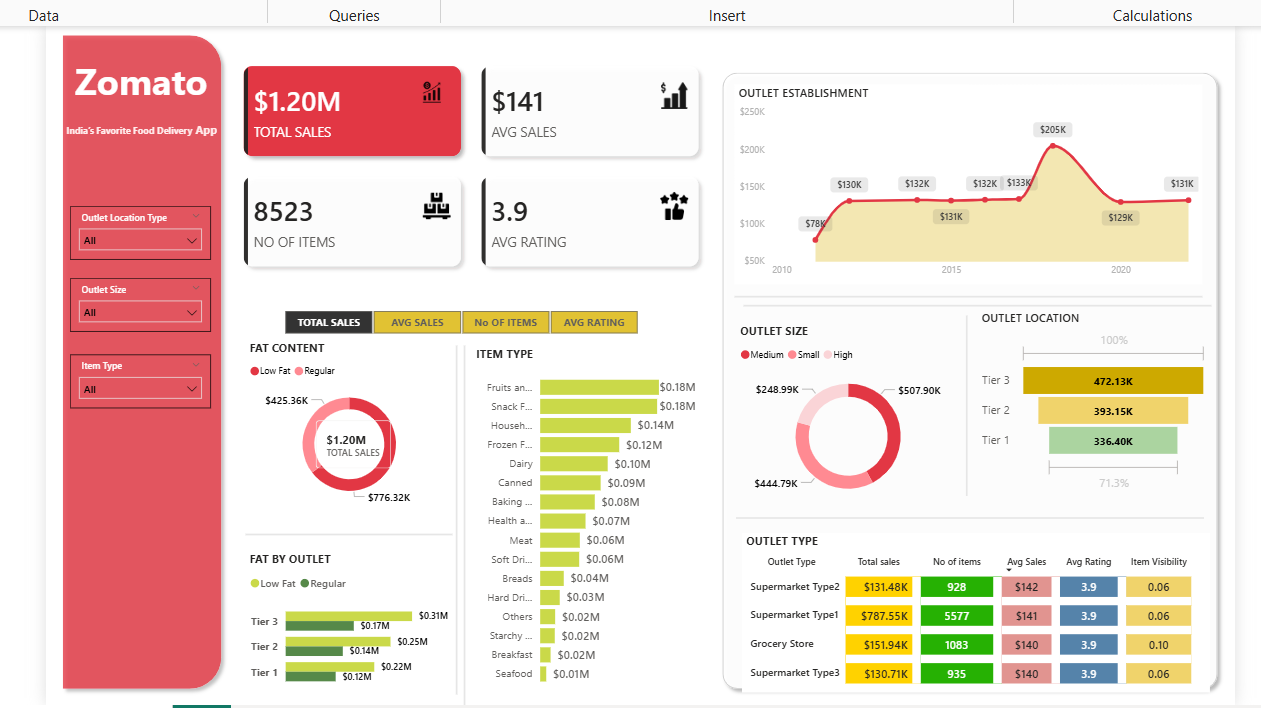

This screenshot's page, from the dashboard's own definition file:
{"tool":"powerbi","page":{"name":"Zomato_Dashboard","canvas":[1400,800],"ordinal":0},"visuals":[{"type":"shape","box":[10.6,1.8,205,788.2],"z":0},{"type":"textbox","box":[14.1,30,196.2,77.8],"z":1000},{"type":"textbox","box":[5.3,107.8,215.6,35.3],"z":2000},{"type":"cardVisual","fields":{"Data":["BlinkIT Grocery Data.TOTAL SALES","BlinkIT Grocery Data.AVG SALES","BlinkIT Grocery Data.No OF ITEMS","BlinkIT Grocery Data.AVG RATING"]},"box":[215.6,29.7,571.9,270.3],"z":3000},{"type":"slicer","fields":{"Values":["Metrics.Metrics"]},"box":[256.3,328.7,464.8,40.6],"z":4000},{"type":"donutChart","title":"FAT CONTENT","fields":{"Category":["Zomato Sales Data.Item Fat Content"],"Y":["Zomato Sales Data.TOTAL SALES"]},"box":[235.1,369.4,243.9,201.5],"z":5000},{"type":"cardVisual","fields":{"Data":["Zomato Sales Data.TOTAL SALES"]},"box":[300.4,447.1,123.7,91.9],"z":6000},{"type":"clusteredBarChart","title":"FAT BY OUTLET","fields":{"Category":["BlinkIT Grocery Data.Outlet Location Type"],"Series":["BlinkIT Grocery Data.Item Fat Content"],"Y":["Zomato Sales Data.TOTAL SALES"]},"box":[235.1,618.6,243.9,171.4],"z":7000},{"type":"shape","box":[235.1,579.7,243.9,38.9],"z":8000},{"type":"shape","box":[479,375.8,9.7,411.3],"z":9000},{"type":"barChart","title":"ITEM TYPE","fields":{"Category":["BlinkIT Grocery Data.Item Type"],"Y":["Zomato Sales Data.TOTAL SALES"]},"box":[502,376.5,268.6,409.8],"z":10000},{"type":"shape","box":[788.2,46,600.9,744.1],"z":11000},{"type":"lineChart","title":"OUTLET ESTABLISHMENT","fields":{"Category":["BlinkIT Grocery Data.Outlet Establishment Year"],"Y":["BlinkIT Grocery Data.TOTAL SALES"]},"box":[811.3,69.4,551.6,235.5],"z":12000},{"type":"shape","box":[811.3,309.7,551.6,19.4],"z":13000},{"type":"donutChart","title":"OUTLET SIZE","fields":{"Category":["BlinkIT Grocery Data.Outlet Size"],"Y":["BlinkIT Grocery Data.TOTAL SALES"]},"box":[813,350,263.6,221.5],"z":14000},{"type":"shape","box":[483.9,375.8,17.7,424.2],"z":15000},{"type":"shape","box":[821.3,319.7,551.6,19.4],"z":16000},{"type":"shape","box":[1072.6,340.3,24.2,212.9],"z":17000},{"type":"funnel","title":"OUTLET LOCATION","fields":{"Category":["BlinkIT Grocery Data.Outlet Location Type"],"Y":["Sum(BlinkIT Grocery Data.Sales)"]},"box":[1097.5,334,275.7,219.2],"z":17001},{"type":"shape","box":[813,570.9,551.4,17.7],"z":17002},{"type":"pivotTable","title":"OUTLET TYPE","fields":{"Rows":["BlinkIT Grocery Data.Outlet Type"],"Values":["BlinkIT Grocery Data.TOTAL SALES","BlinkIT Grocery Data.No OF ITEMS","BlinkIT Grocery Data.AVG SALES","BlinkIT Grocery Data.AVG RATING","Avg(BlinkIT Grocery Data.Item Visibility)"]},"box":[819.6,598.1,551.6,188.3],"z":17003},{"type":"slicer","fields":{"Values":["BlinkIT Grocery Data.Outlet Location Type"]},"box":[28.3,212.1,166.1,63.6],"z":17004},{"type":"slicer","fields":{"Values":["BlinkIT Grocery Data.Outlet Size"]},"box":[28.3,296.9,166.1,63.6],"z":17005},{"type":"slicer","fields":{"Values":["BlinkIT Grocery Data.Item Type"]},"box":[28.3,387,166.1,63.6],"z":17006}]}

Visuals, with their boxes on the page's 1400x800 design canvas (x1, y1, x2, y2). These are canvas units, not pixel positions in the 1261x708 screenshot, which may show the page scaled, cropped or inside an application window:
shape: 11:2:216:790
textbox: 14:30:210:108
textbox: 5:108:221:143
cardVisual - BlinkIT Grocery Data.TOTAL SALES x BlinkIT Grocery Data.AVG SALES: 216:30:788:300
slicer - Metrics.Metrics: 256:329:721:369
"FAT CONTENT" donutChart: 235:369:479:571
cardVisual - Zomato Sales Data.TOTAL SALES: 300:447:424:539
"FAT BY OUTLET" clusteredBarChart: 235:619:479:790
shape: 235:580:479:619
shape: 479:376:489:787
"ITEM TYPE" barChart: 502:376:771:786
shape: 788:46:1389:790
"OUTLET ESTABLISHMENT" lineChart: 811:69:1363:305
shape: 811:310:1363:329
"OUTLET SIZE" donutChart: 813:350:1077:572
shape: 484:376:502:800
shape: 821:320:1373:339
shape: 1073:340:1097:553
"OUTLET LOCATION" funnel: 1098:334:1373:553
shape: 813:571:1364:589
"OUTLET TYPE" pivotTable: 820:598:1371:786
slicer - BlinkIT Grocery Data.Outlet Location Type: 28:212:194:276
slicer - BlinkIT Grocery Data.Outlet Size: 28:297:194:360
slicer - BlinkIT Grocery Data.Item Type: 28:387:194:451
